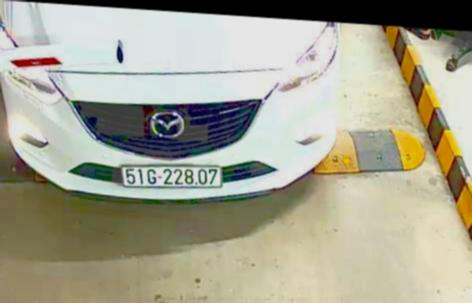License_Plate: (120, 156, 225, 195)
